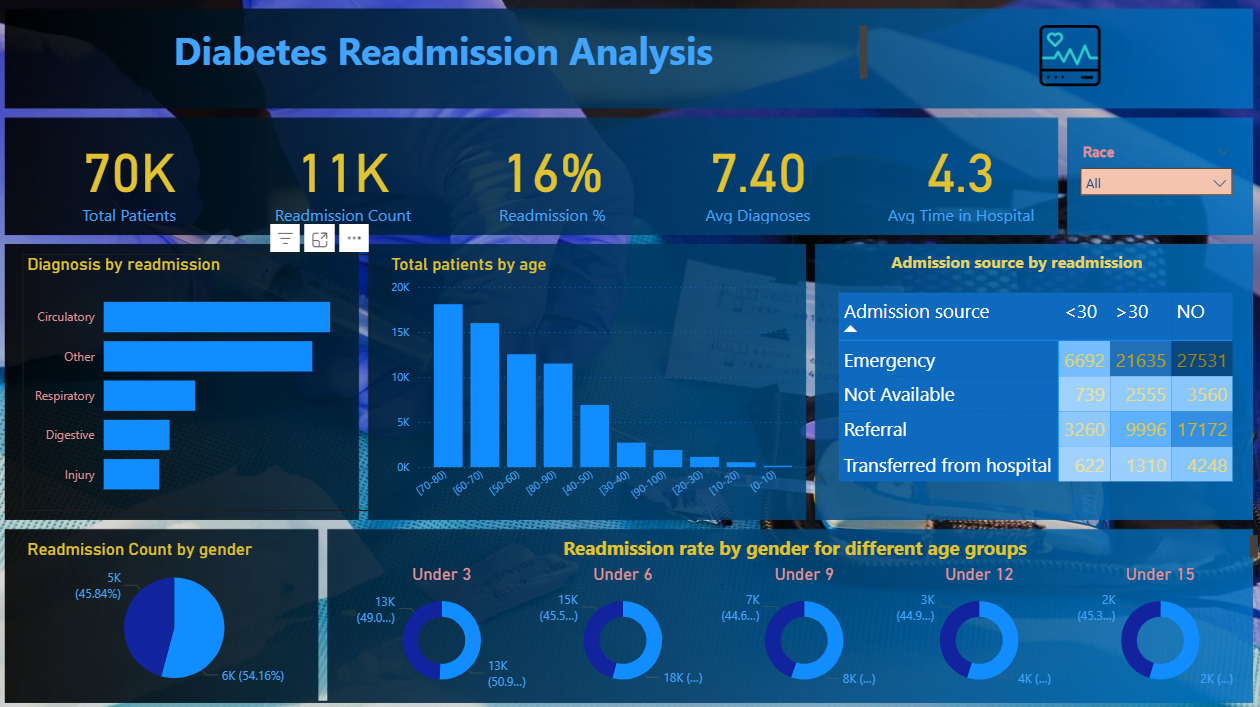

The dashboard page shown, as its layout file describes it:
{"tool":"powerbi","page":{"name":"Page 1","canvas":[1280,720],"ordinal":0},"visuals":[{"type":"image","box":[0,0,1270.1,720.3],"z":0},{"type":"textbox","box":[27.4,26.1,845.9,69.7],"z":1000},{"type":"image","box":[957.8,26.1,223.9,70.9],"z":2000},{"type":"card","fields":{"Values":["diabetic_data_clean.Total Patients"]},"box":[27.4,129.4,212.7,104.5],"z":3000},{"type":"card","fields":{"Values":["diabetic_data_clean.Readmission Count"]},"box":[240.1,129.4,212.7,104.5],"z":4000},{"type":"card","fields":{"Values":["diabetic_data_clean.Readmission %"]},"box":[452.8,129.4,204,104.5],"z":5000},{"type":"card","fields":{"Values":["diabetic_data_clean.Avg Diagnoses"]},"box":[656.8,129.4,205.3,104.5],"z":6000},{"type":"card","fields":{"Values":["diabetic_data_clean.Avg Time in Hospital"]},"box":[862.1,129.4,199,104.5],"z":7000},{"type":"pieChart","fields":{"Category":["diabetic_data_clean.gender"],"Y":["diabetic_data_clean.Readmission Count"]},"box":[27.4,542.4,302.3,158],"z":8000},{"type":"clusteredColumnChart","title":"Total patients by age","fields":{"Category":["diabetic_data_clean.age"],"Y":["diabetic_data_clean.Total Patients"]},"box":[389.4,258.7,424.2,256.3],"z":9000},{"type":"donutChart","title":"Under 3","fields":{"Category":["diabetic_data_clean.gender"],"Y":["diabetic_data_clean.Total Patients"],"Series":["diabetic_data_clean.time_in_hospital (bins)"]},"box":[354.5,567.2,180.4,133.1],"z":10000},{"type":"textbox","box":[338.4,533.7,923,33.6],"z":11000},{"type":"donutChart","title":"Under 6","fields":{"Category":["diabetic_data_clean.gender"],"Y":["diabetic_data_clean.Total Patients"],"Series":["diabetic_data_clean.time_in_hospital (bins)"]},"box":[534.9,567.2,180.4,133.1],"z":12000},{"type":"donutChart","title":"Under 9","fields":{"Category":["diabetic_data_clean.gender"],"Y":["diabetic_data_clean.Total Patients"],"Series":["diabetic_data_clean.time_in_hospital (bins)"]},"box":[715.3,567.2,180.4,133.1],"z":13000},{"type":"donutChart","title":"Under 12","fields":{"Category":["diabetic_data_clean.gender"],"Y":["diabetic_data_clean.Total Patients"],"Series":["diabetic_data_clean.time_in_hospital (bins)"]},"box":[889.4,567.2,180.4,133.1],"z":14000},{"type":"donutChart","title":"Under 15","fields":{"Category":["diabetic_data_clean.gender"],"Y":["diabetic_data_clean.Total Patients"],"Series":["diabetic_data_clean.time_in_hospital (bins)"]},"box":[1069.8,567.2,180.4,133.1],"z":15000},{"type":"barChart","title":"Diagnosis by readmission","fields":{"Category":["diabetic_data_clean.diag_1"],"Y":["diabetic_data_clean.Readmission Count"]},"box":[27.4,258.7,319.7,256.3],"z":16000},{"type":"slicer","fields":{"Values":["diabetic_data_clean.race"]},"box":[1069.8,144.3,171.7,74.6],"z":17000},{"type":"pivotTable","fields":{"Columns":["diabetic_data_clean.readmitted"],"Rows":["diabetic_data_clean.admission_source_id"],"Values":["CountNonNull(diabetic_data_clean.patient_nbr)"]},"box":[834.7,292.3,426.7,222.7],"z":18000},{"type":"textbox","box":[813.5,250,406.8,42.3],"z":19000}]}

Visuals, with their boxes in screenshot pixels (x1, y1, x2, y2), scaled from the page's 1280x720 canvas onto the 1260x707 screenshot:
image: BBox(0, 0, 1250, 706)
textbox: BBox(27, 26, 860, 94)
image: BBox(943, 26, 1163, 95)
card - diabetic_data_clean.Total Patients: BBox(27, 127, 236, 230)
card - diabetic_data_clean.Readmission Count: BBox(236, 127, 446, 230)
card - diabetic_data_clean.Readmission %: BBox(446, 127, 647, 230)
card - diabetic_data_clean.Avg Diagnoses: BBox(647, 127, 849, 230)
card - diabetic_data_clean.Avg Time in Hospital: BBox(849, 127, 1045, 230)
pieChart - diabetic_data_clean.gender x diabetic_data_clean.Readmission Count: BBox(27, 533, 325, 688)
"Total patients by age" clusteredColumnChart: BBox(383, 254, 801, 506)
"Under 3" donutChart: BBox(349, 557, 527, 688)
textbox: BBox(333, 524, 1242, 557)
"Under 6" donutChart: BBox(527, 557, 704, 688)
"Under 9" donutChart: BBox(704, 557, 882, 688)
"Under 12" donutChart: BBox(876, 557, 1053, 688)
"Under 15" donutChart: BBox(1053, 557, 1231, 688)
"Diagnosis by readmission" barChart: BBox(27, 254, 342, 506)
slicer - diabetic_data_clean.race: BBox(1053, 142, 1222, 215)
pivotTable - diabetic_data_clean.readmitted x diabetic_data_clean.admission_source_id: BBox(822, 287, 1242, 506)
textbox: BBox(801, 245, 1201, 287)
